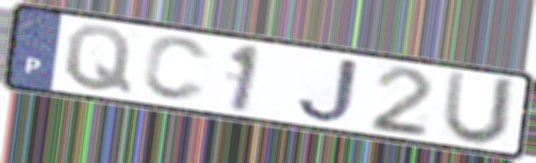1: (227, 42, 263, 116)
2: (369, 63, 434, 139)
C: (139, 34, 214, 104)
J: (293, 55, 363, 124)
Q: (62, 23, 135, 97)
U: (438, 67, 521, 149)
